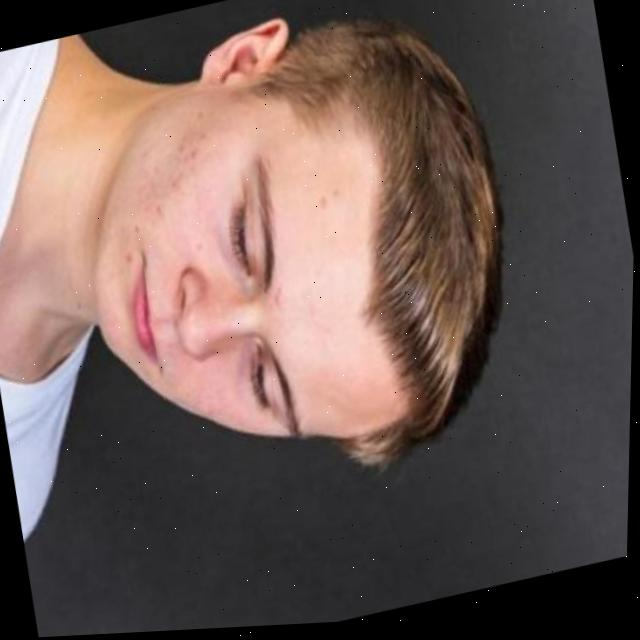Acne: (96, 136, 225, 263)
